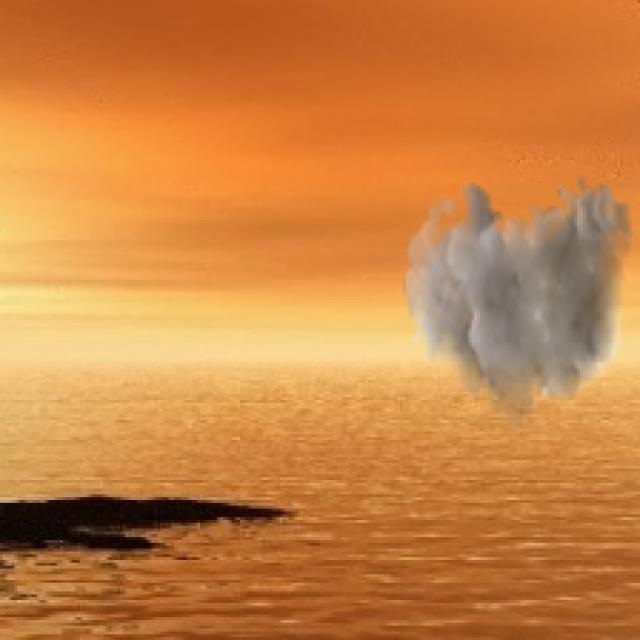smoke: (403, 174, 634, 434)
